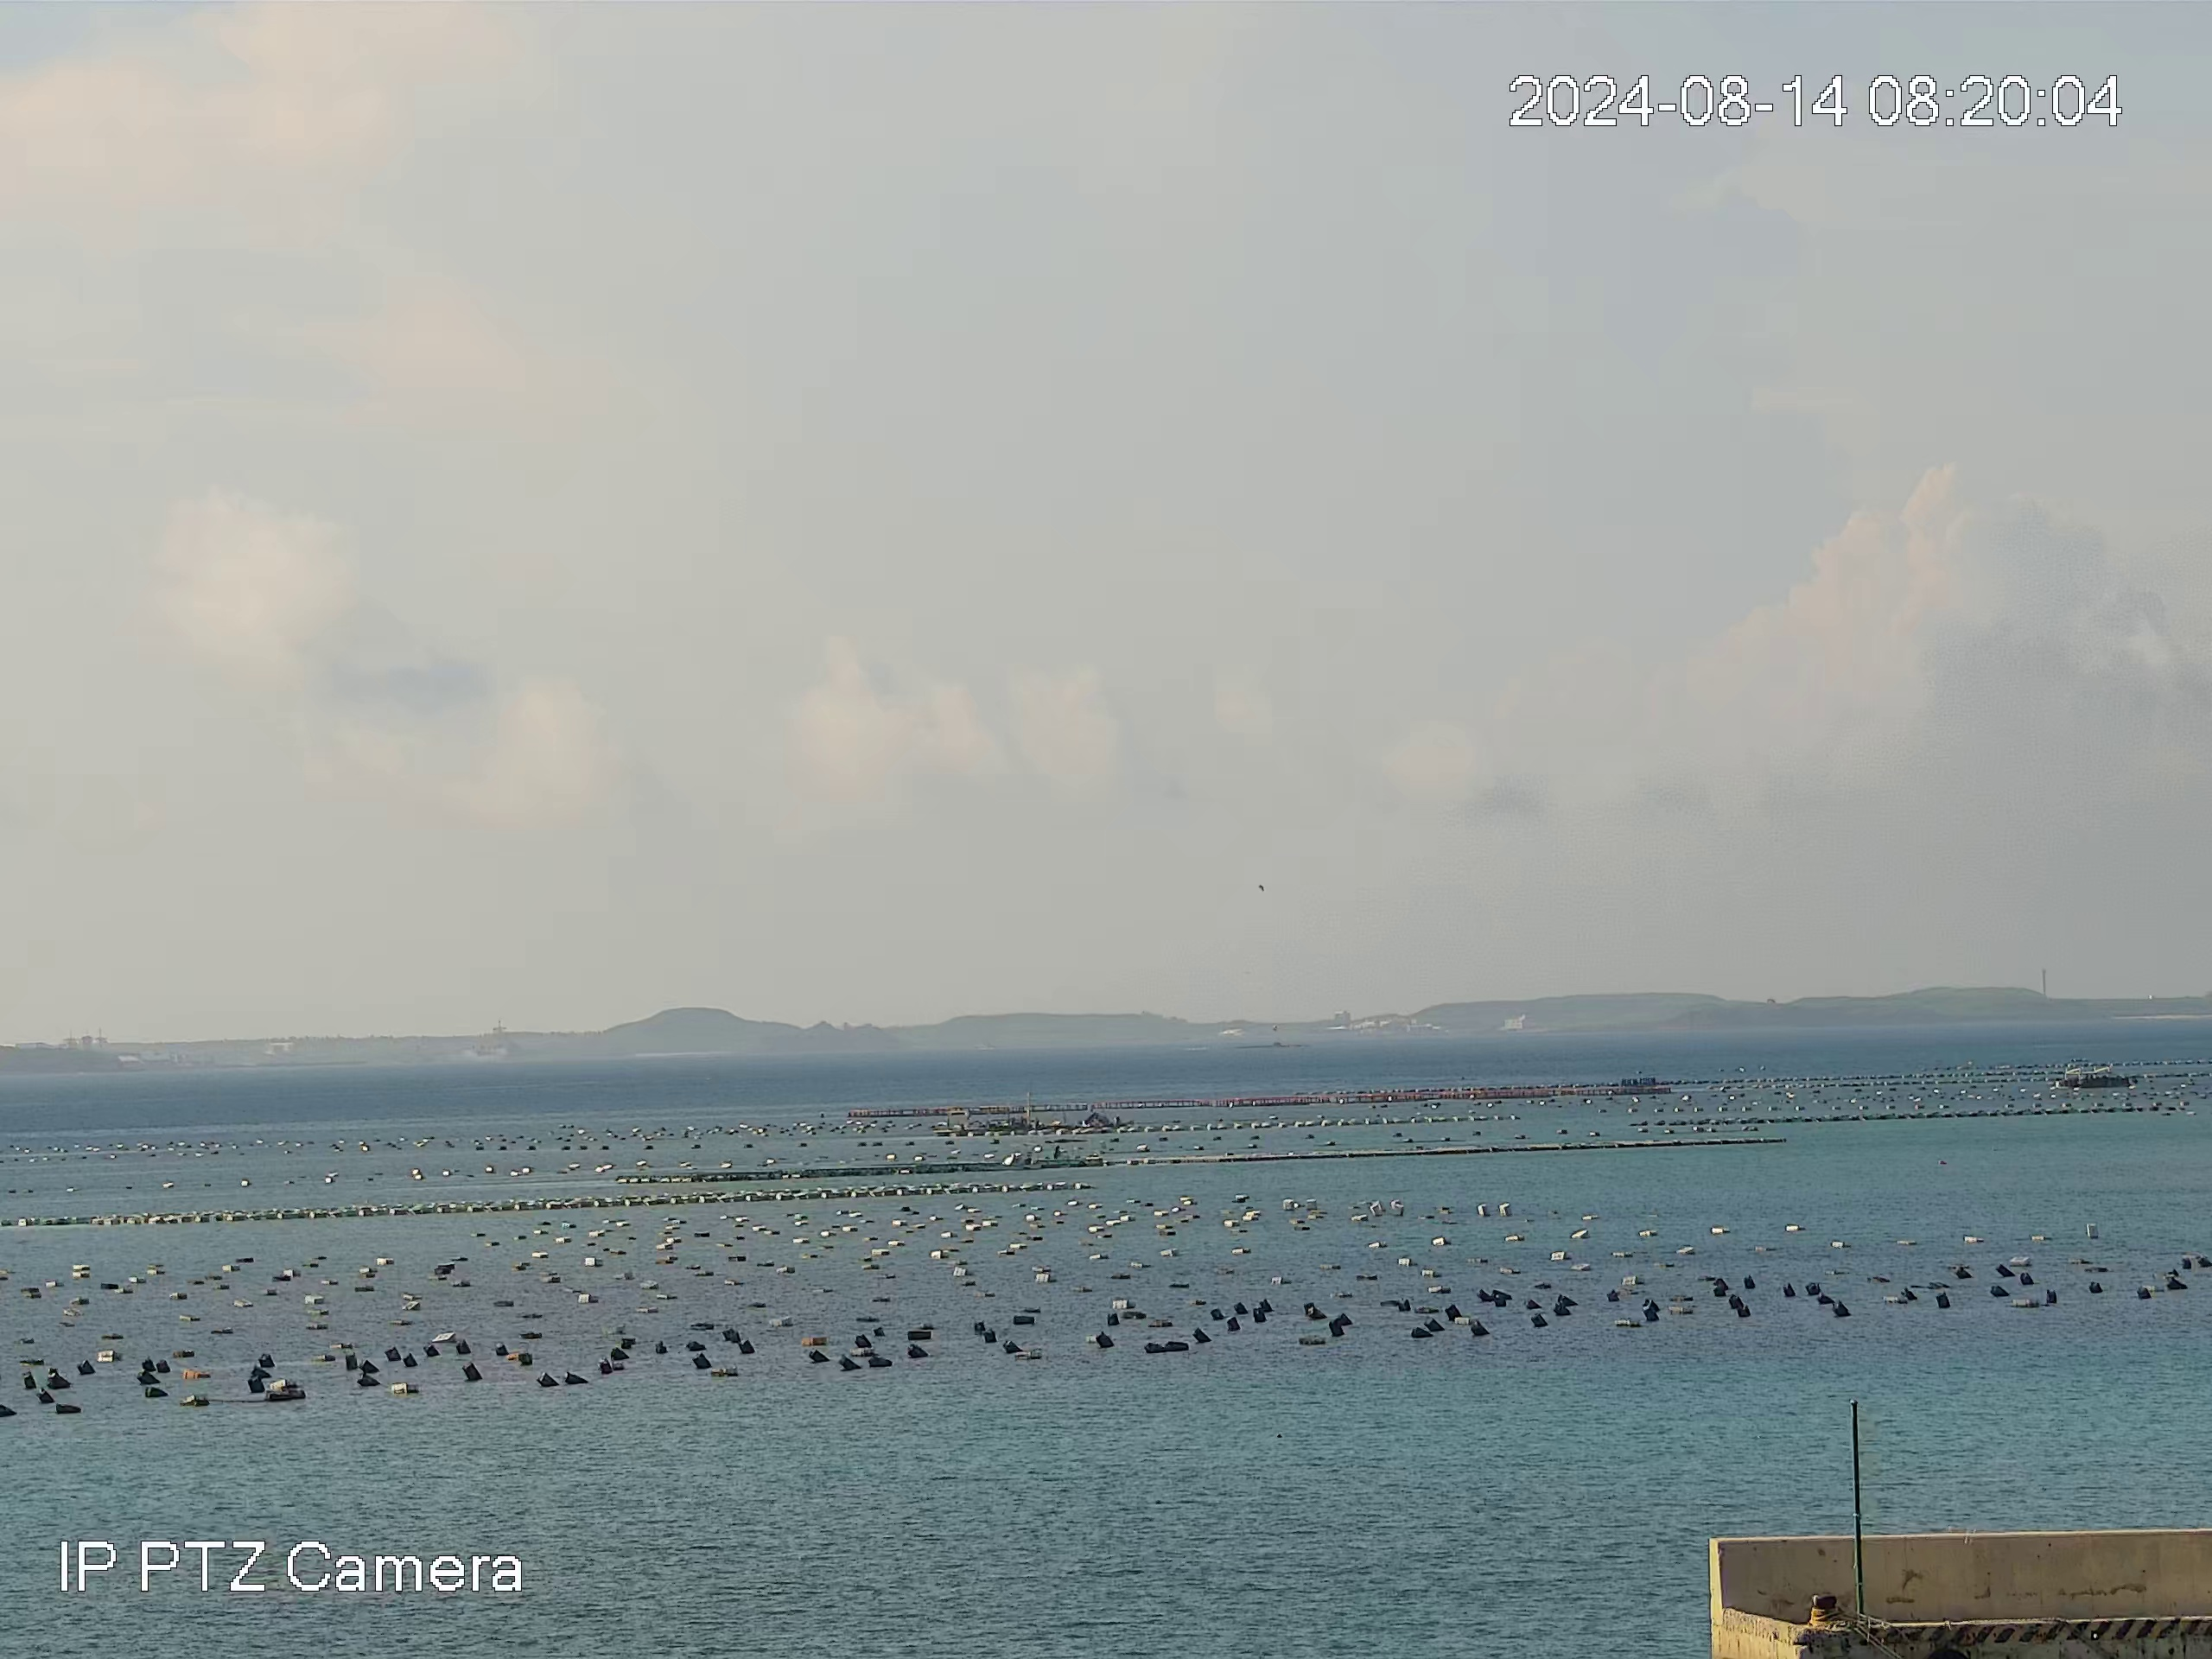boat: (2059, 1061, 2134, 1093)
